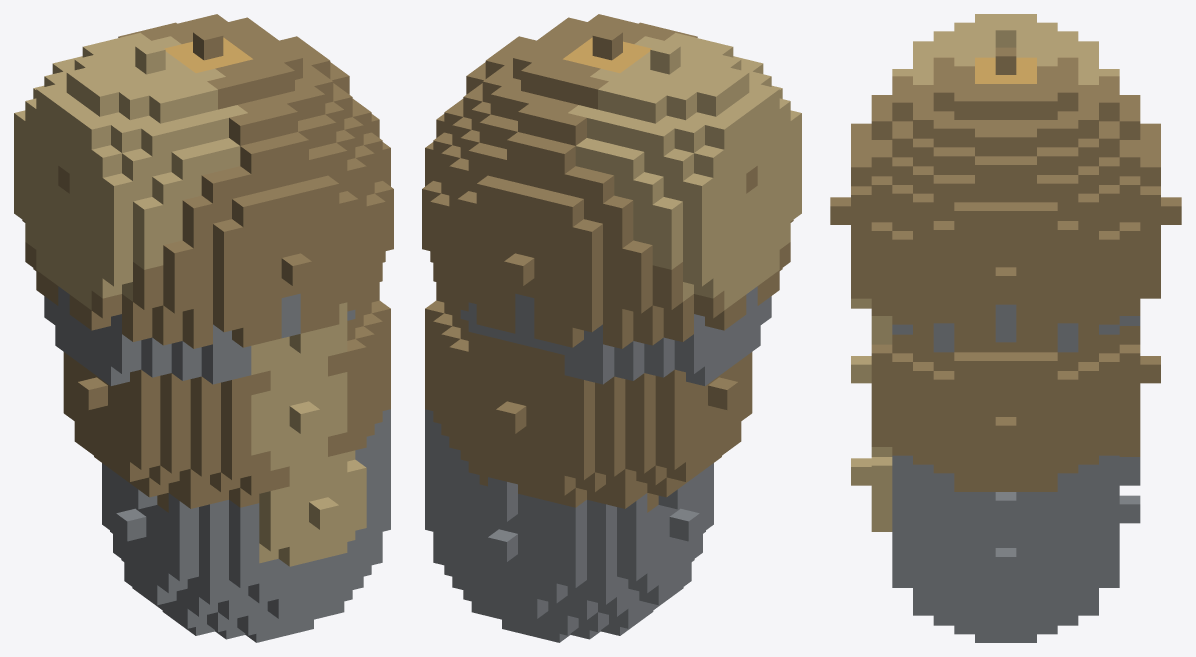
The model's file is lm_shin.glb.
3 views of the same model, side by side, from view 1: azimuth 30°, elevation 25°; view 2: azimuth 150°, elevation 25°; view 3: azimuth 270°, elevation 25° (orthographic). The views are drawn at different scales.
Size of the model in its own units: 16 by 30 by 17.
